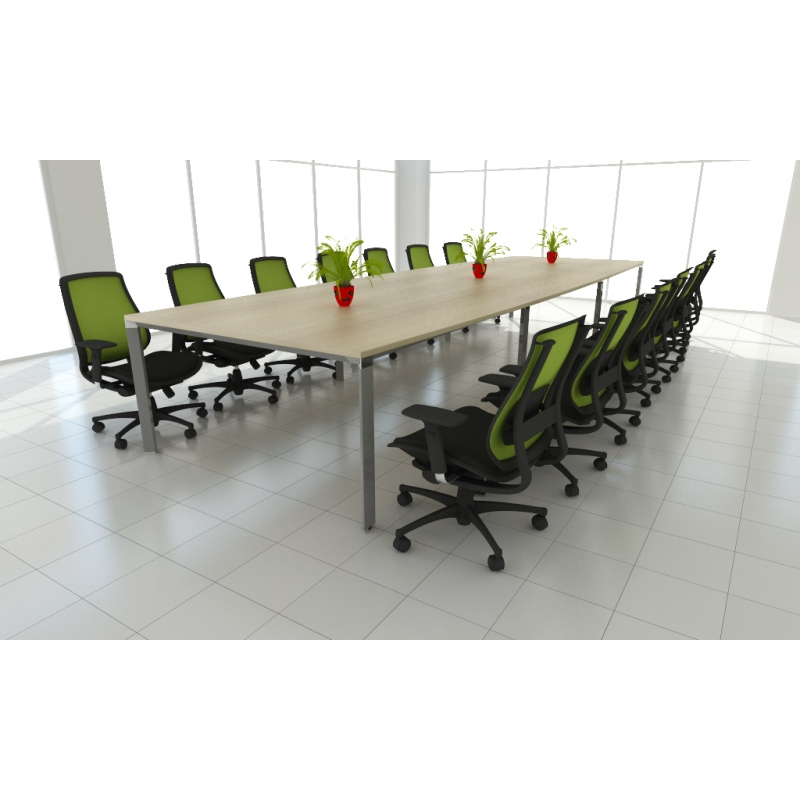conference_table: (124, 255, 645, 535)
